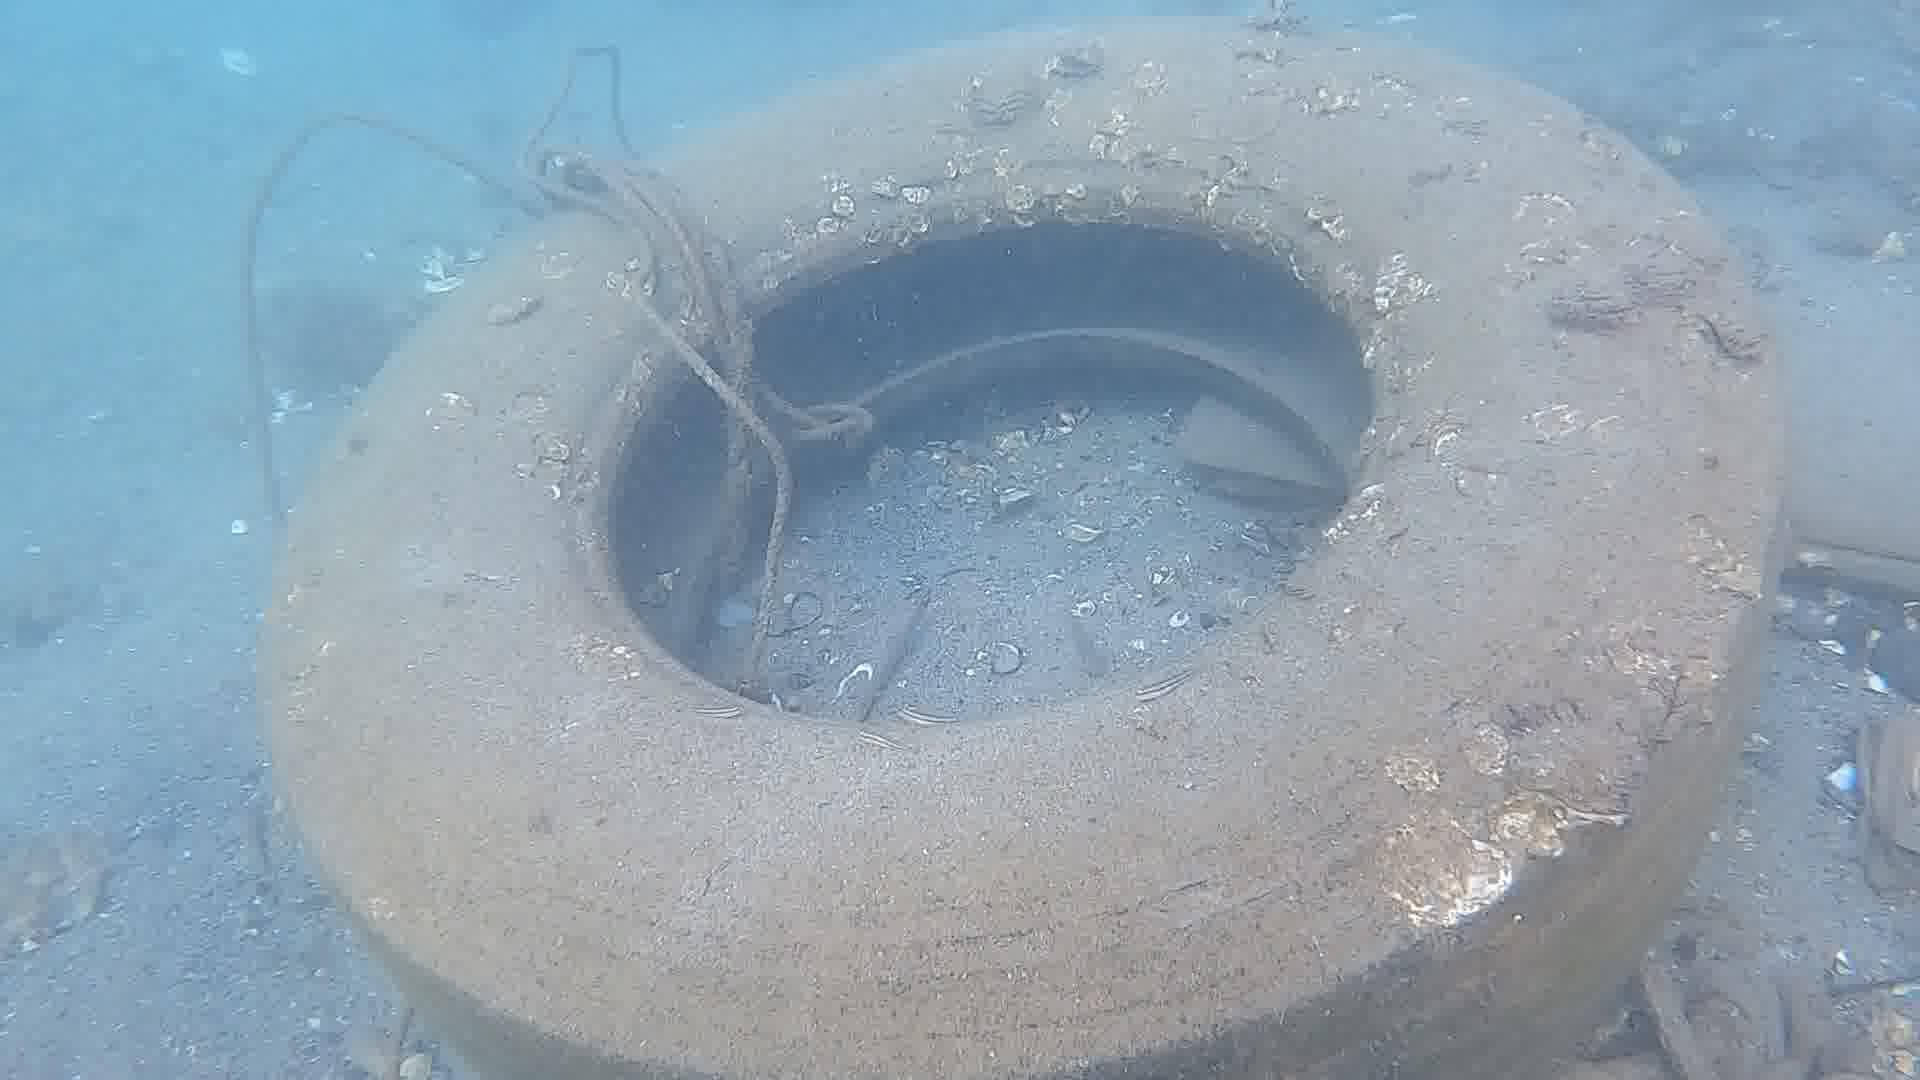bundle of ropes: (518, 40, 876, 625)
rope: (235, 109, 541, 526)
tire: (261, 15, 1789, 1080)
